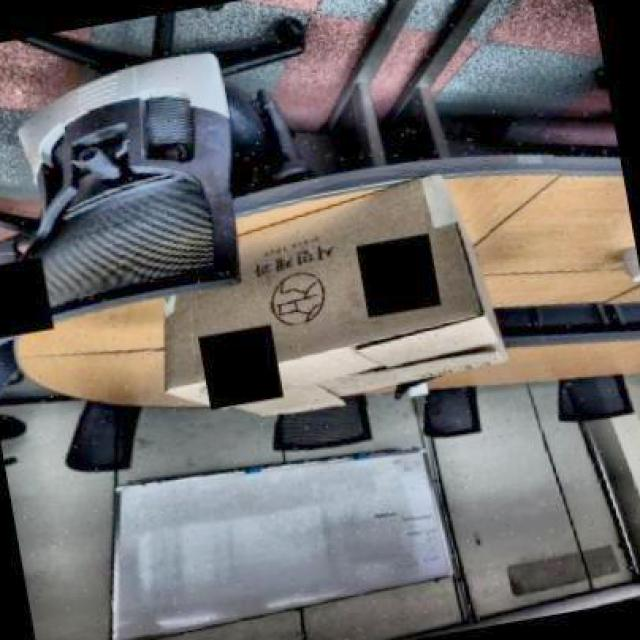box: (114, 153, 516, 443)
